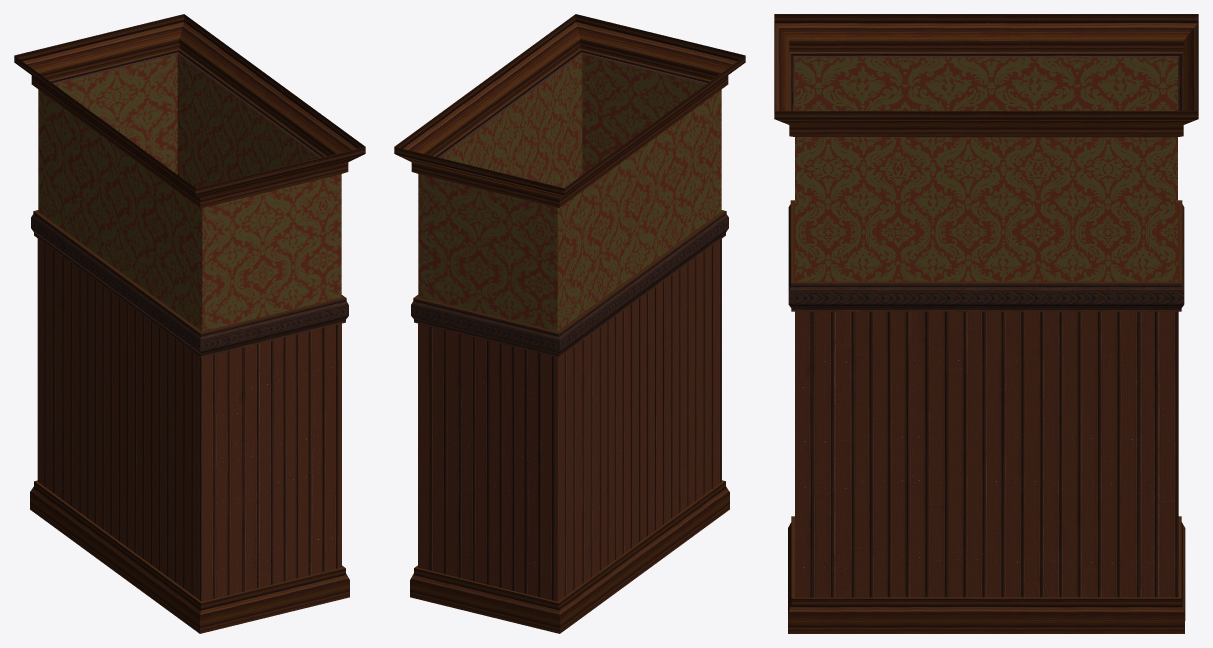
File: Wall2Box.fbx
3 renders of one model, left to right at view 1: azimuth 30°, elevation 25°; view 2: azimuth 150°, elevation 25°; view 3: azimuth 270°, elevation 25°, orthographic. The views are drawn at different scales.
Visible parts, largest first — view 1: Wall Outie_Large.004; view 2: Wall Outie_Large.004; view 3: Wall Outie_Large.004.
Boxes of the visible parts, x1,y1,x2,y2 form: Wall Outie_Large.004: (14,14,365,633); Wall Outie_Large.004: (394,14,745,633); Wall Outie_Large.004: (774,14,1198,633).
Bounding box in the file's own units: 111 × 281 × 205.
